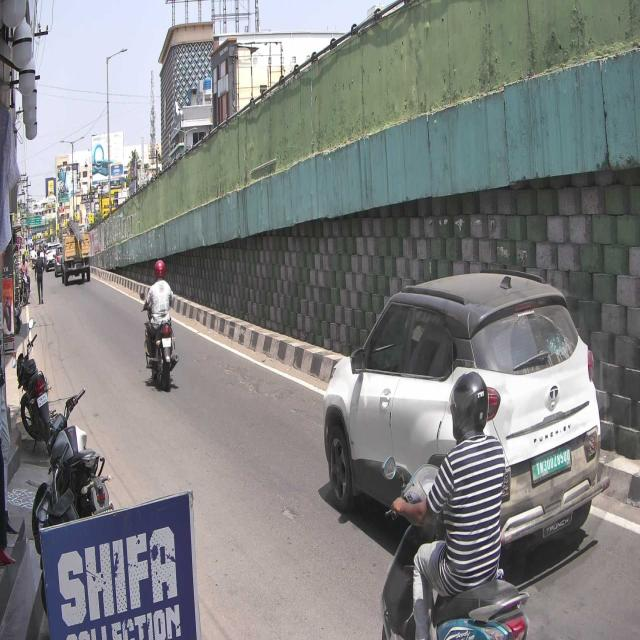single_rider: (381, 365, 532, 640)
